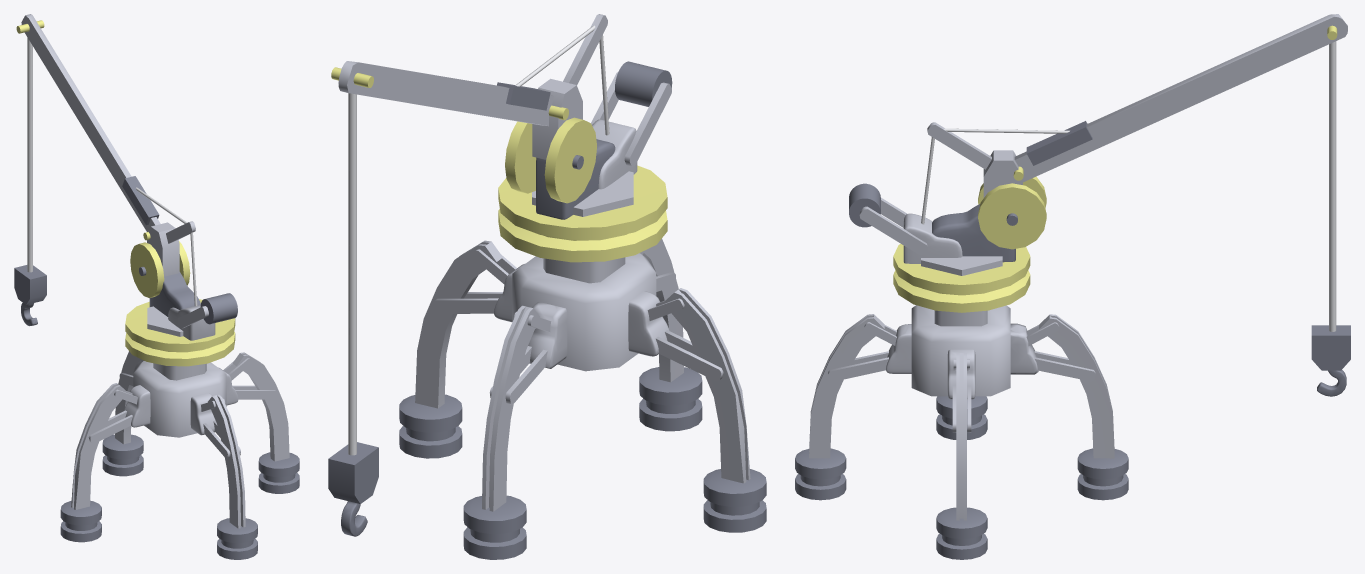
Rendered from buildings-crane-226.glb.
The picture shows the model from 3 angles, left to right: view 1: azimuth 30°, elevation 25°; view 2: azimuth 150°, elevation 25°; view 3: azimuth 270°, elevation 25°; orthographic projection. The views are drawn at different scales.
Parts seen in each view (by area): view 1: Form58, Shape8_1, Group5 Form63, Form48_3, Form48, Form48_2, Shape7_1, Shape7, Shape7_2, Shape7_3, Shape10_2, Shape10_5 (+14 smaller); view 2: Form58, Shape8_1, Group5 Form63, Form48_3, Form48_1, Form48_2, Shape7, Shape7_1, Shape7_2, Shape7_3, Shape10_2, Shape10_5 (+18 smaller); view 3: Group5 Form63, Form58, Shape8_1, Shape10, Form48_1, Form48, Shape7_2, Shape10_5, Shape7_1, Shape7, Form53, Form48_2 (+14 smaller).
Part boxes in pixels (box(x1,y1,x2,y2)): Form58: box(133, 361, 226, 437); Shape8_1: box(125, 299, 235, 366); Group5 Form63: box(21, 14, 160, 231); Form48_3: box(71, 383, 127, 509); Form48: box(208, 394, 245, 528); Form48_2: box(232, 352, 289, 461); Shape7_1: box(102, 434, 143, 476); Shape7: box(217, 518, 257, 559); Shape7_2: box(258, 452, 299, 493); Shape7_3: box(60, 500, 101, 542); Shape10_2: box(130, 242, 164, 297); Shape10_5: box(27, 37, 32, 272); Form58: box(512, 253, 656, 371); Shape8_1: box(498, 165, 667, 262); Group5 Form63: box(338, 61, 553, 126); Form48_3: box(663, 288, 750, 483); Form48_1: box(482, 305, 539, 511); Form48_2: box(415, 240, 502, 408); Shape7: box(639, 367, 702, 431); Shape7_1: box(463, 495, 526, 559); Shape7_2: box(399, 394, 462, 458); Shape7_3: box(703, 469, 766, 532); Shape10_2: box(544, 117, 596, 203); Shape10_5: box(348, 93, 356, 455); Group5 Form63: box(1014, 14, 1347, 182); Form58: box(911, 305, 1010, 396); Shape8_1: box(893, 244, 1030, 312); Shape10: box(978, 183, 1046, 249); Form48_1: box(1039, 314, 1114, 458); Form48: box(809, 314, 884, 458); Shape7_2: box(936, 507, 987, 559); Shape10_5: box(1329, 41, 1336, 331); Shape7_1: box(1077, 448, 1128, 500); Shape7: box(795, 448, 846, 500); Form53: box(932, 204, 1015, 262); Form48_2: box(956, 353, 966, 520).
Size of the model in its own units: 46.82 by 73.68 by 77.98.
